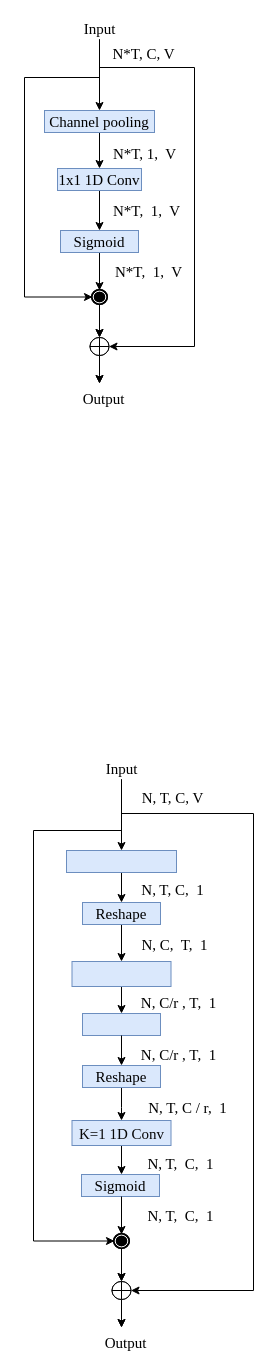
This 279x1370 diagram has some shape labels left out. Here are the shapes that lost their labels. From the top down, the box of each, then its label:
(66, 850, 176, 872): Spatial pooling
(71, 960, 171, 986): K=3 1D Conv
(82, 1012, 160, 1036): Relu
